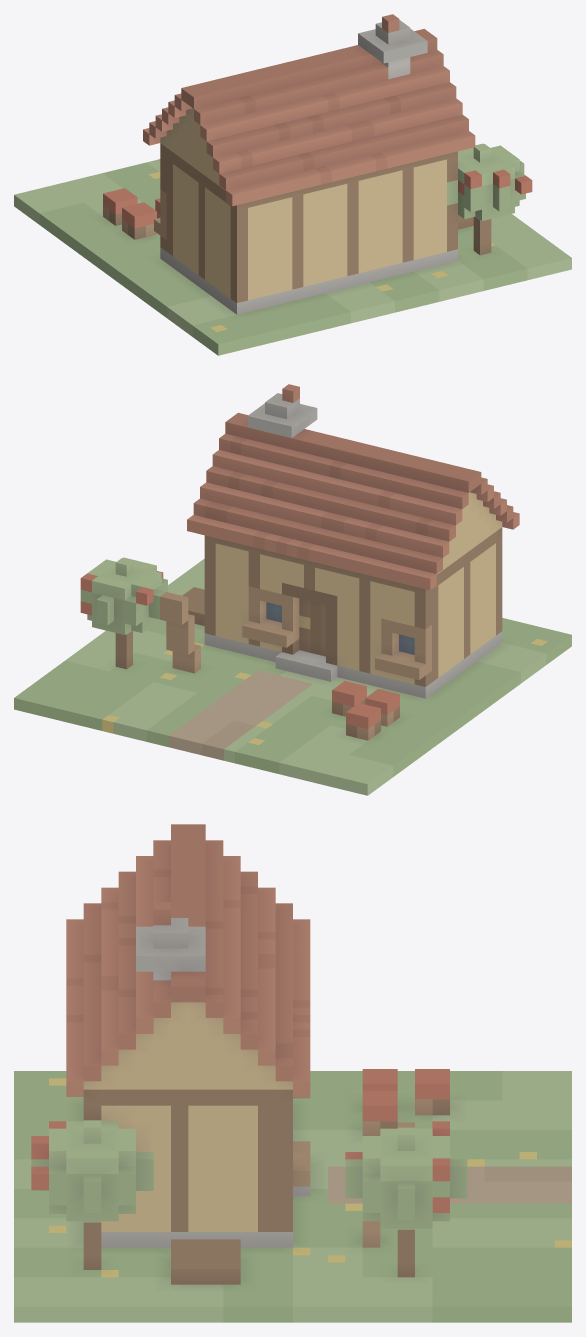
Rendered from orchard.glb.
3 renders of one model, top to bottom at view 1: azimuth 30°, elevation 25°; view 2: azimuth 150°, elevation 25°; view 3: azimuth 270°, elevation 25°, orthographic. The views are drawn at different scales.
Parts seen in each view (by area): view 1: orchard; view 2: orchard; view 3: orchard.
Part boxes in pixels (x1=…): orchard: x1=14, y1=14, x2=571, y2=355; orchard: x1=14, y1=384, x2=571, y2=795; orchard: x1=14, y1=824, x2=571, y2=1322.
Bounding box in the file's own units: 4 × 2.62 × 4.
